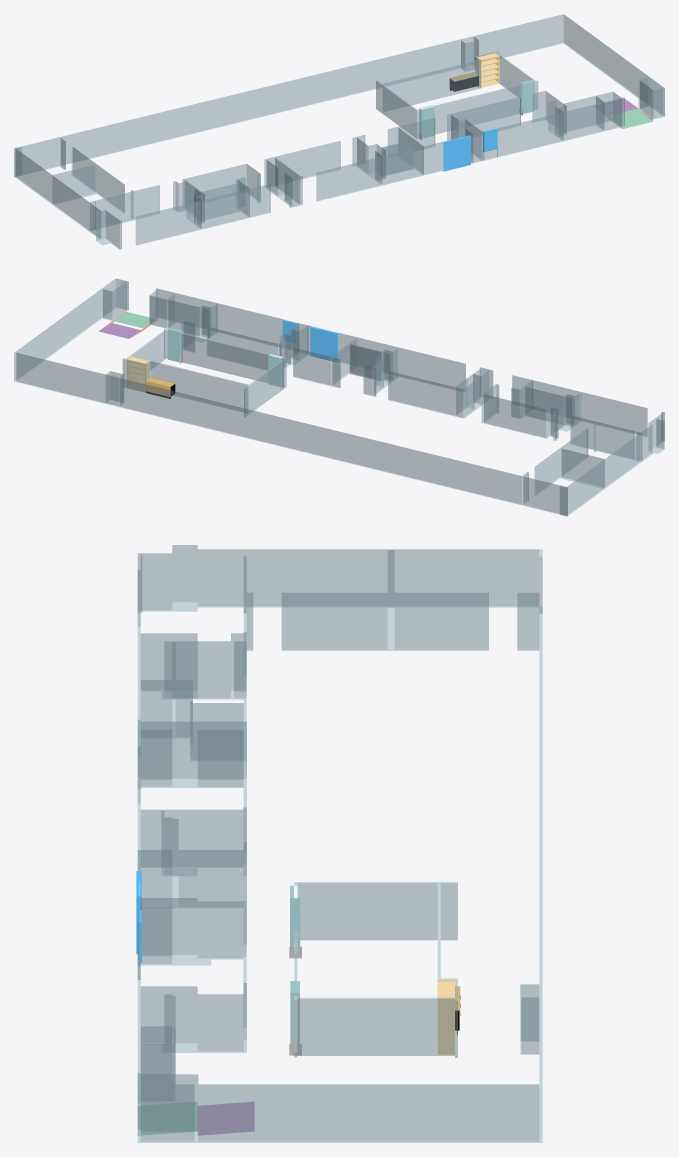
3 renders of one model, top to bottom at view 1: azimuth 30°, elevation 25°; view 2: azimuth 150°, elevation 25°; view 3: azimuth 270°, elevation 25°, orthographic. The views are drawn at different scales.
Visible parts, largest first — view 1: Cube, CTRL_Hole (×3), Plane (×2), Shelves1; view 2: Cube, CTRL_Hole (×3), Plane (×2), Shelves1; view 3: Cube, Plane (×2), Shelves1.
Part boxes in pixels (<box>): Cube: <box>14,14,664,249</box>; CTRL_Hole (×3): <box>419,79,534,171</box>; Plane (×2): <box>594,98,652,128</box>; Shelves1: <box>476,52,499,88</box>; Cube: <box>14,278,664,516</box>; CTRL_Hole (×3): <box>168,326,338,386</box>; Plane (×2): <box>98,312,155,338</box>; Shelves1: <box>127,356,149,391</box>; Cube: <box>137,545,542,1142</box>; Plane (×2): <box>137,1101,254,1135</box>; Shelves1: <box>438,979,454,1054</box>.
Size of what is drawn, in the model's own units: 40.65 by 2.25 by 12.9.
